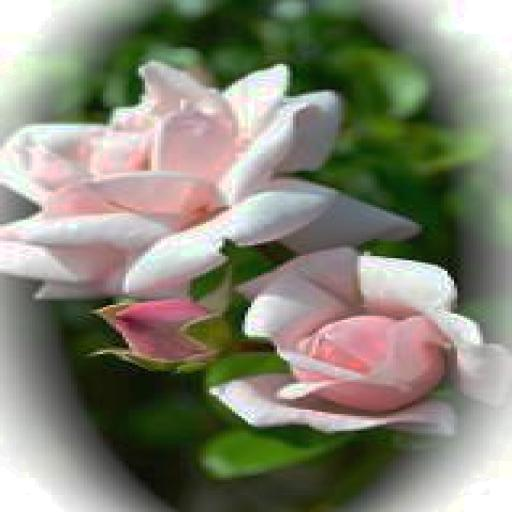rose: (219, 254, 502, 439)
